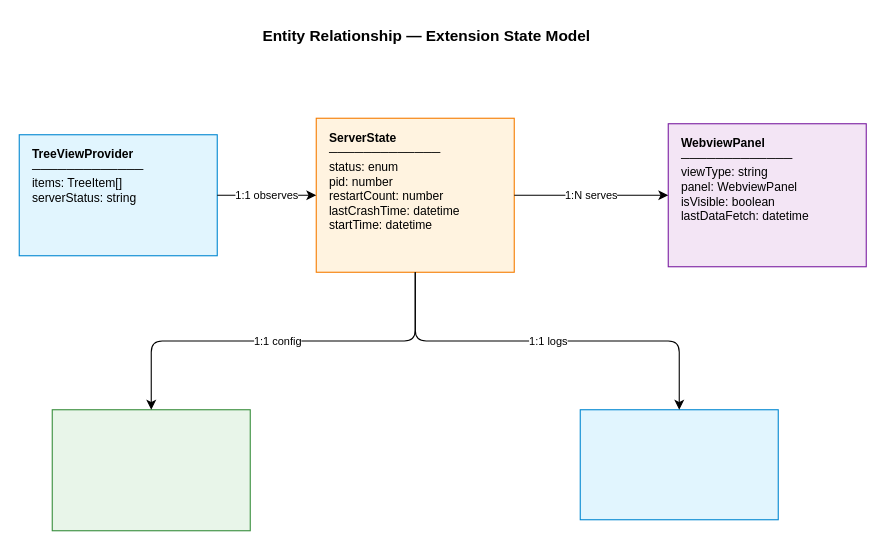
Some shapes in this 886 by 550 pixel diagram are drawn without their labels. Here are the shapes that lost their labels. From the top down, the box of each, then its label:
(51, 409, 250, 531): McpConfig ───────────── filePath: string servers: map isBundled: boolean
(579, 409, 778, 520): OutputChannel ───────────── name: string content: string[]
